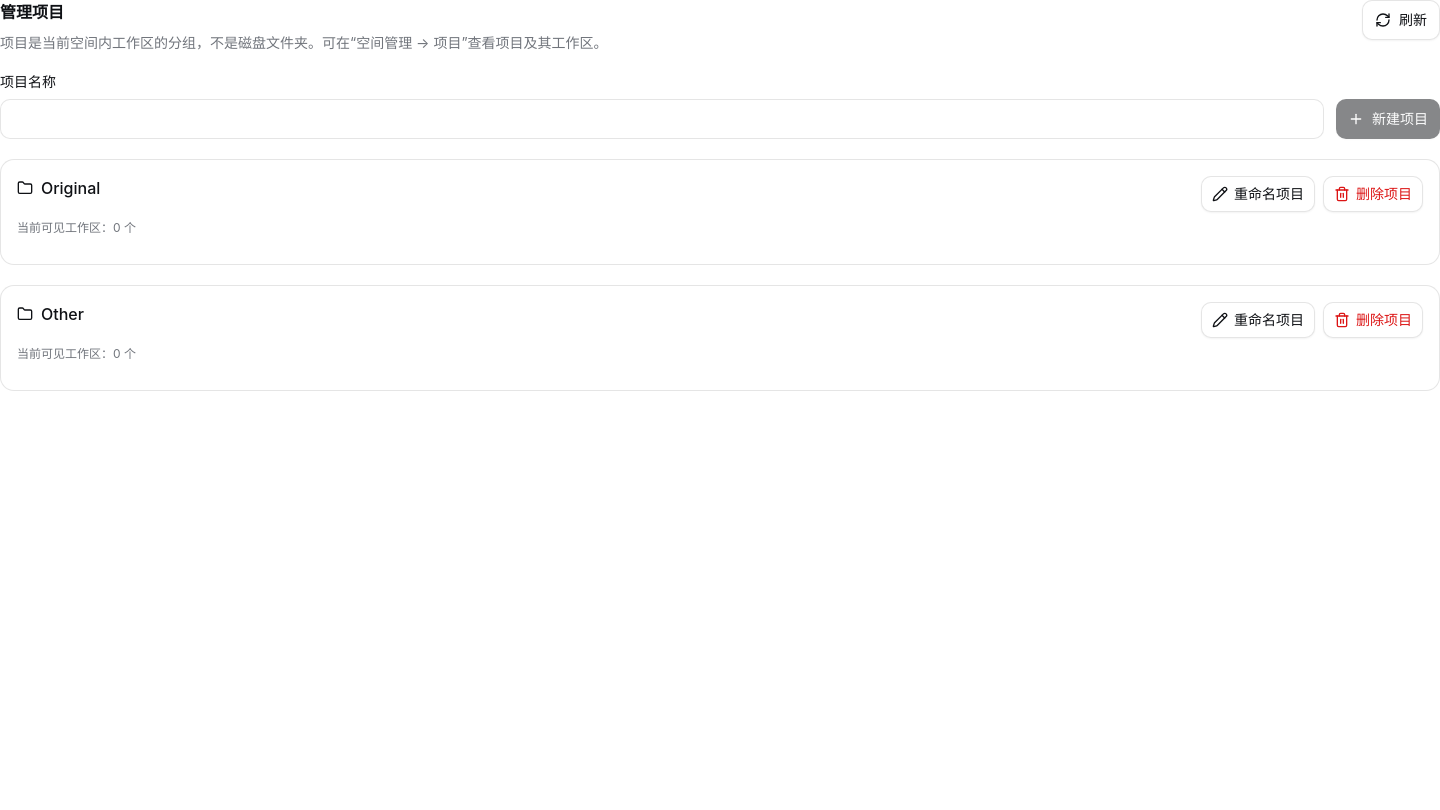
Test: Platform project settings › keeps the confirmation and project on conflict: project has associated resources and cannot be deleted
Click the button "删除项目" in the row of "Original".
click(1373, 194)  # box 1323,176 -> 1423,212
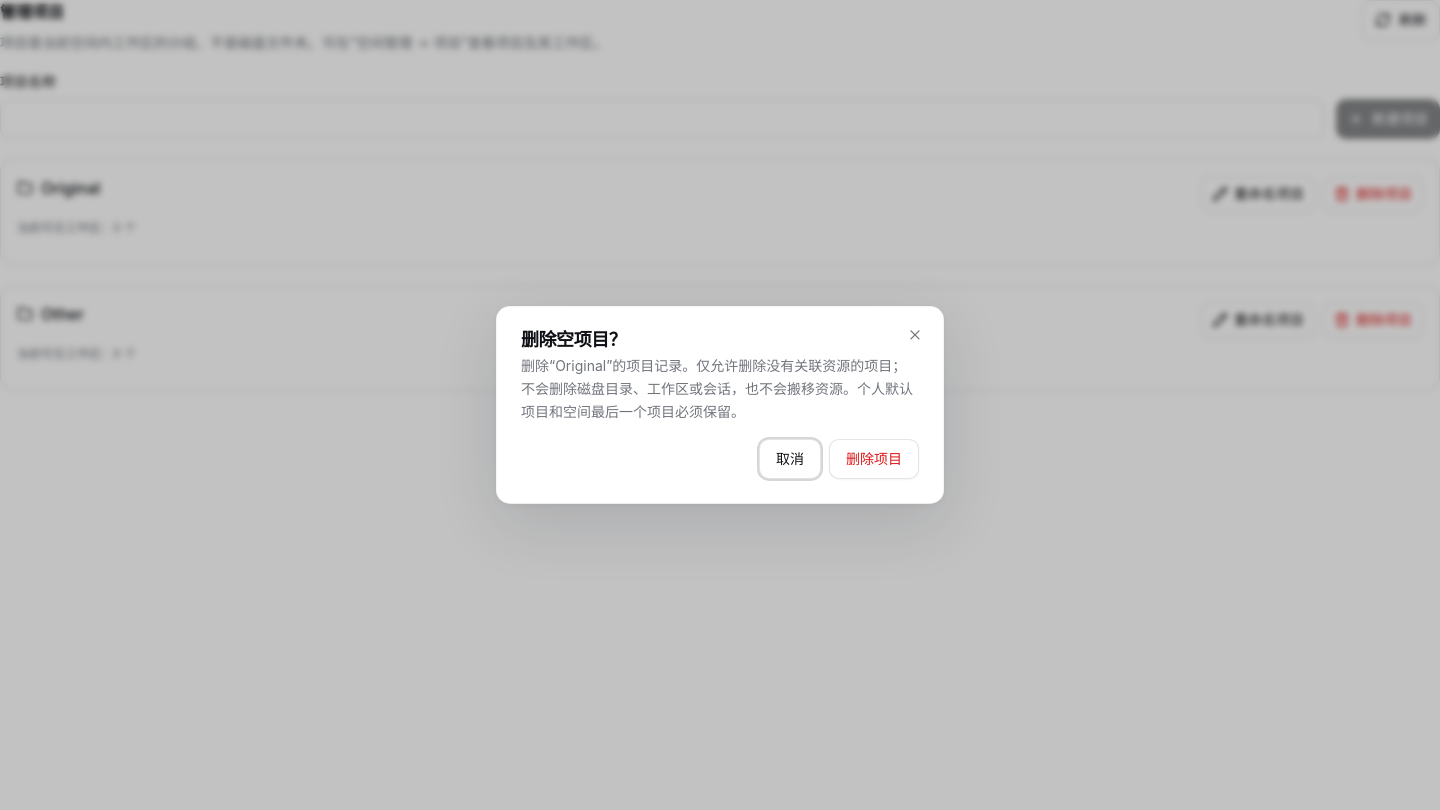
Click the button "删除项目".
click(874, 459)  # box 829,439 -> 919,479
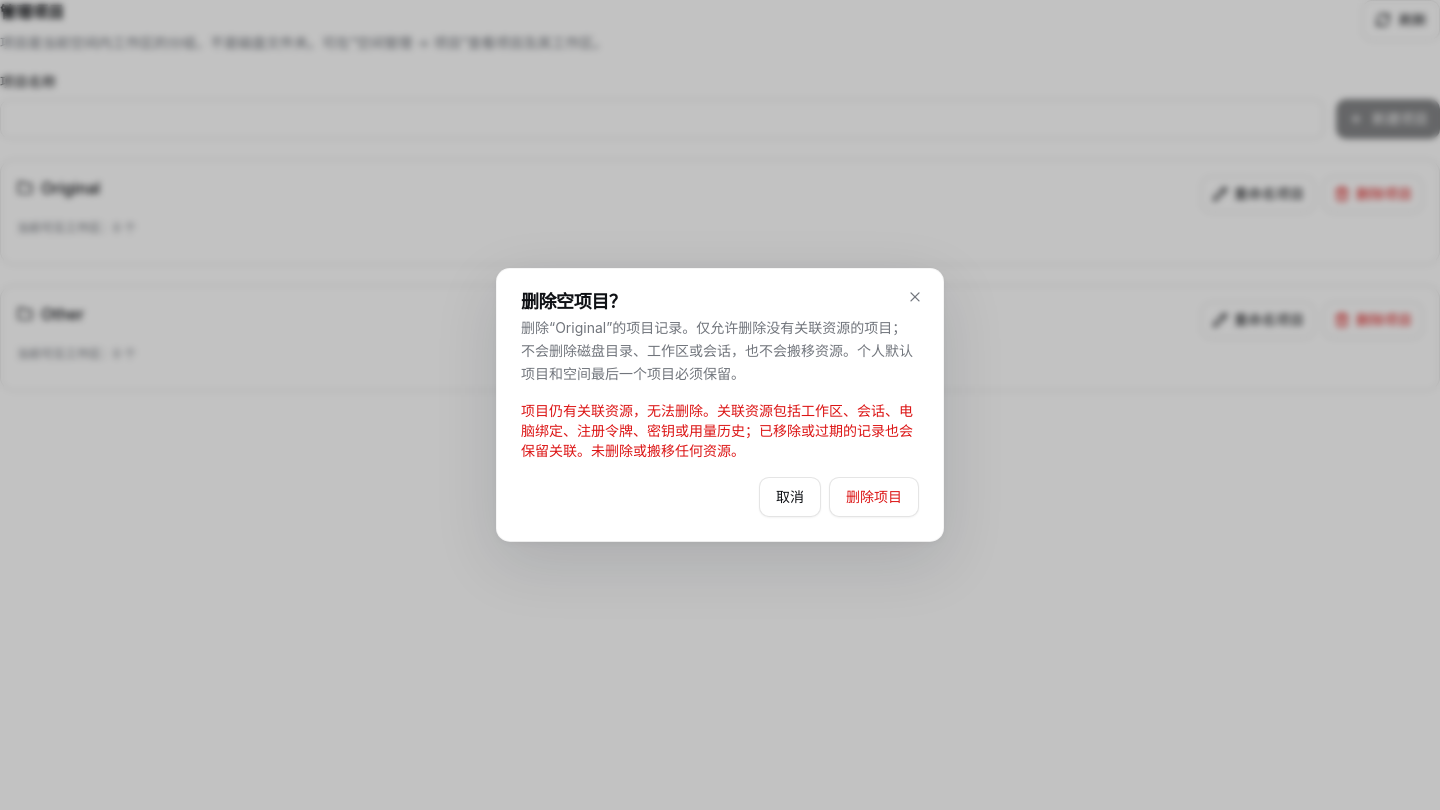
Check: the element showing "Original 重命名项目 删除项目 当前可见工作区：0 个" is shown, box 0,159 -> 1439,265
Check: the message "项目仍有关联资源，无法删除。关联资源包括工作区、会话、电脑绑定、注册令牌、密钥或用量历史；已移除或过期的记录也会保留关联。未删除或搬移任何资源。" is shown, box 521,401 -> 919,461
